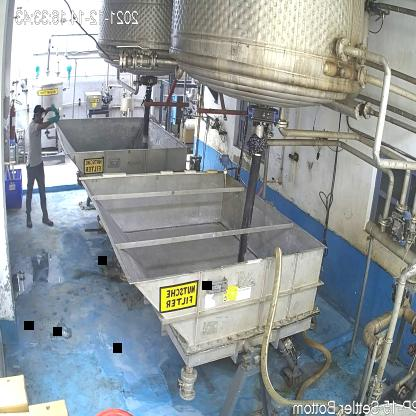shoes: (40, 209, 56, 230), (22, 210, 35, 232)
